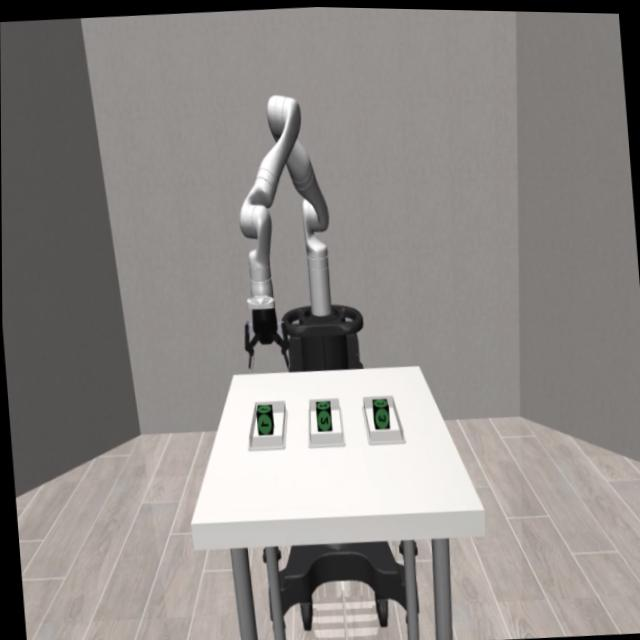cube1: (253, 403, 276, 437)
cube2: (314, 400, 332, 432)
cube3: (370, 396, 391, 429)
